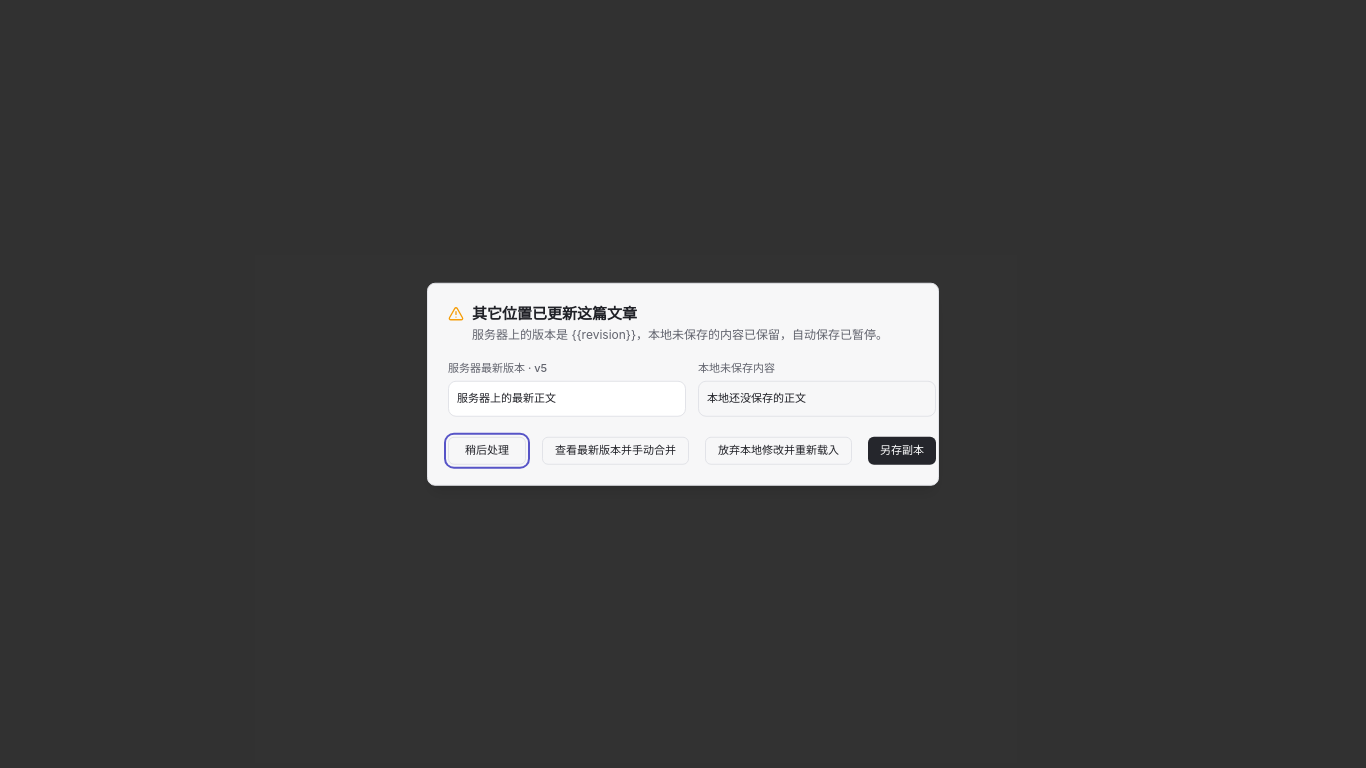
Scenario: ConflictDialog (A-08 three resolutions) › reports a failed resolution instead of closing silently
Click the button with test id "conflict-save-copy" at (902, 450), box [868, 436, 936, 464]
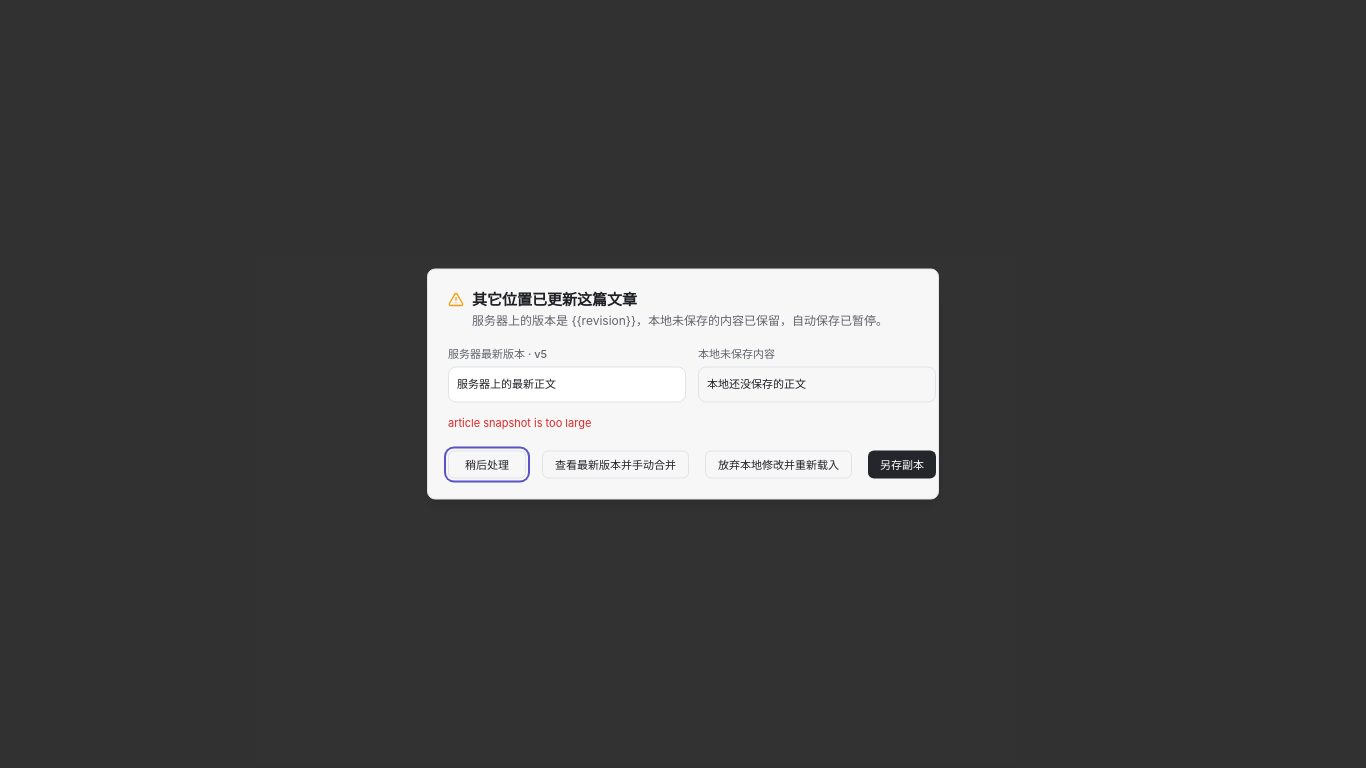
Expected: the dialog with test id "conflict-dialog" is shown, [427, 268, 939, 500]
Expected: the message with test id "conflict-error" reads "article snapshot is too large", [448, 415, 591, 429]
